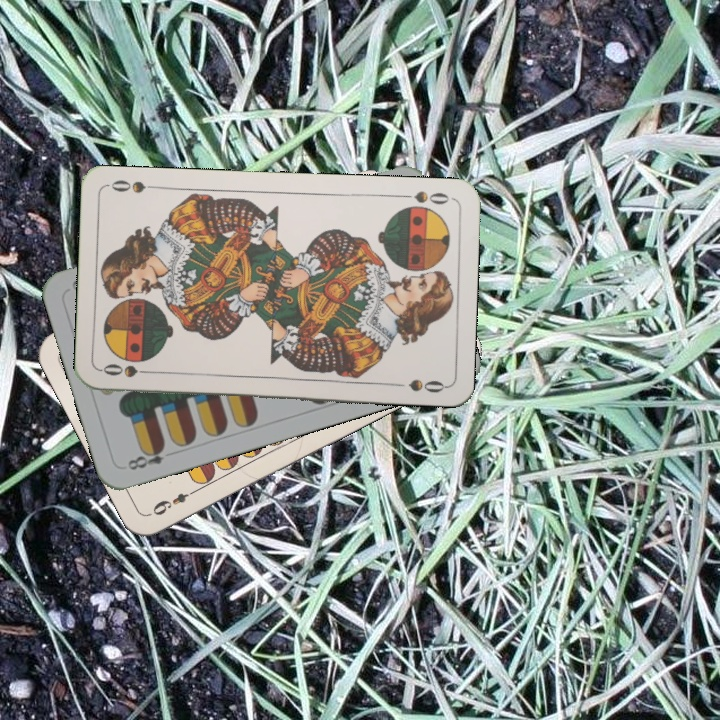E8: (123, 440, 179, 473)
E9: (148, 484, 201, 518)
SO: (99, 360, 158, 380), (395, 187, 454, 207)
